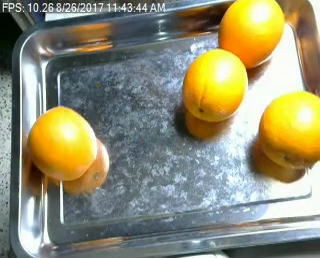Orange: (26, 106, 98, 180), (258, 90, 320, 171), (183, 48, 248, 122), (217, 1, 284, 68)
